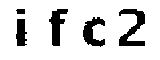2: (113, 6, 150, 52)
c: (81, 16, 107, 50)
f: (46, 8, 71, 49)
i: (12, 4, 34, 53)
